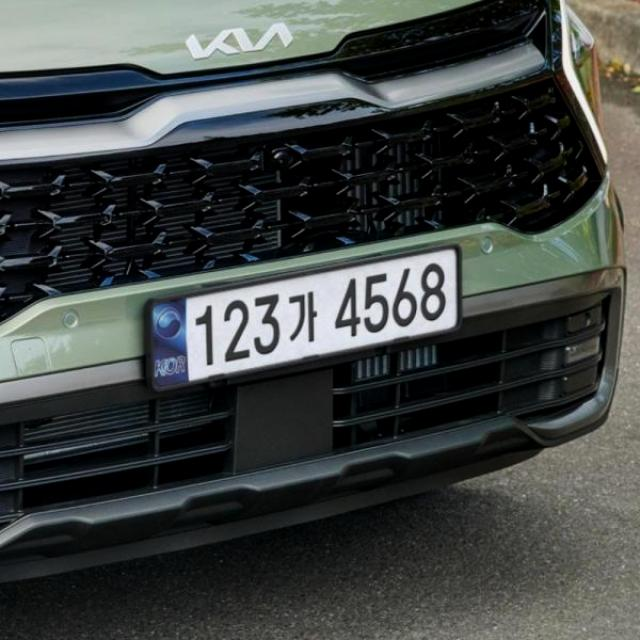illegal_plate: (147, 248, 460, 392)
